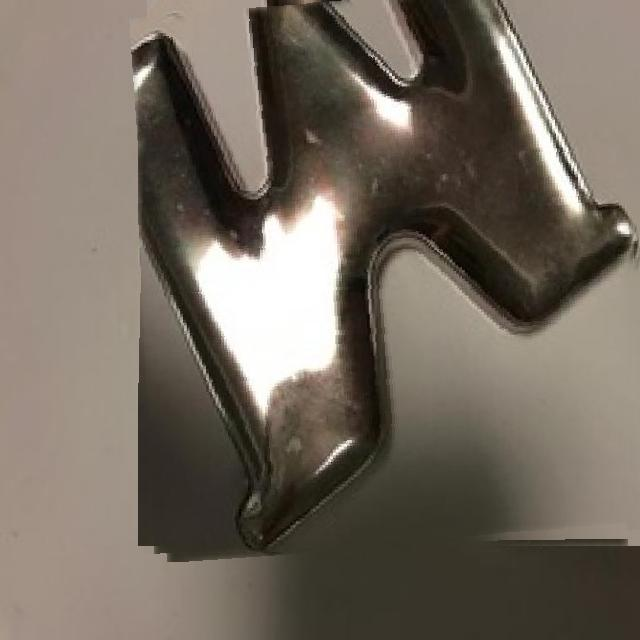recyclable: (138, 0, 640, 554)
